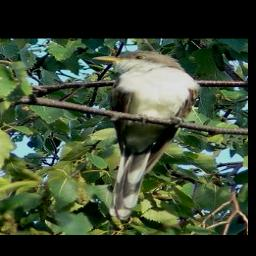Cuckoo: (92, 48, 200, 221)
